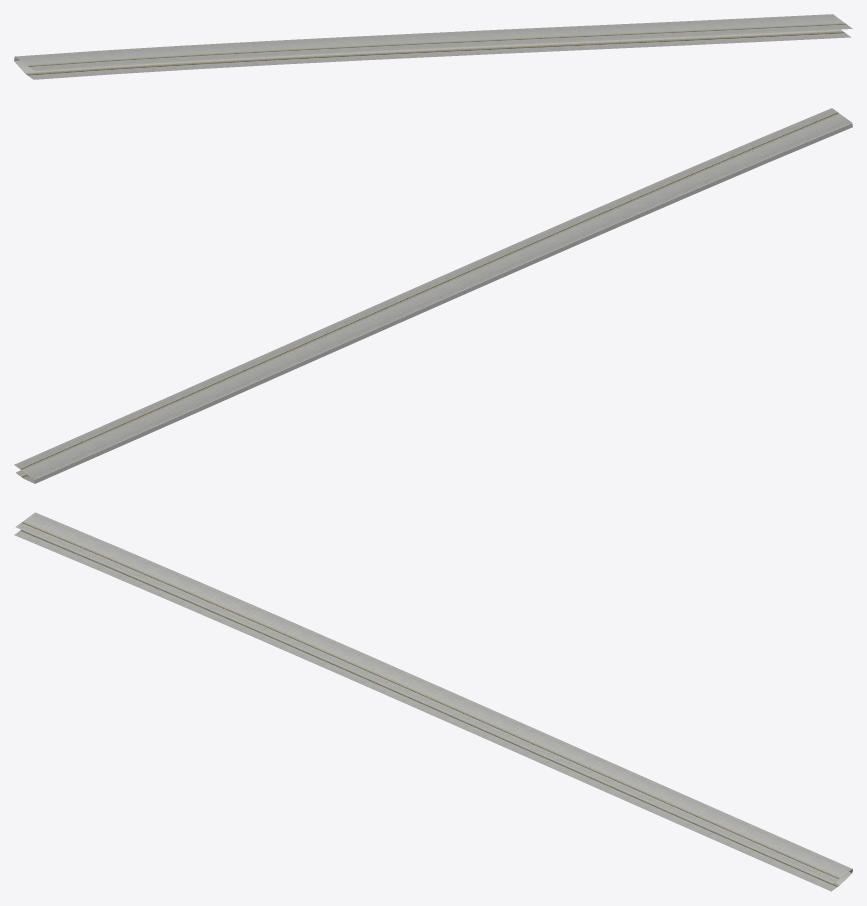
3 renders of one model, top to bottom at view 1: azimuth 30°, elevation 25°; view 2: azimuth 210°, elevation 25°; view 3: azimuth 330°, elevation 25°, orthographic.
Visible parts, largest first — view 1: _1WALL_16_SUB0_Scene.669; view 2: _1WALL_16_SUB0_Scene.669; view 3: _1WALL_16_SUB0_Scene.669.
Part boxes in pixels (x1,y1,x2,y2): _1WALL_16_SUB0_Scene.669: (14,14,852,79); _1WALL_16_SUB0_Scene.669: (14,108,852,483); _1WALL_16_SUB0_Scene.669: (14,512,852,891).
Bounding box in the file's own units: 3965 × 765 × 170.
